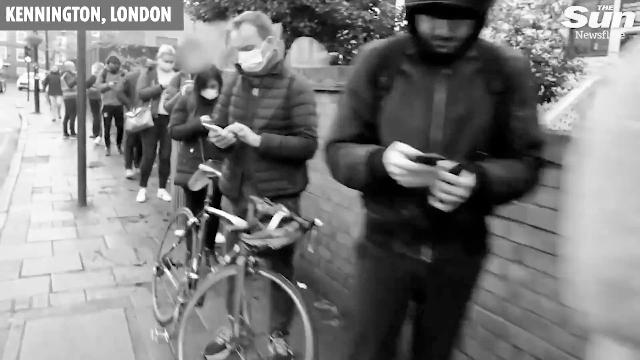berdiri: (332, 0, 548, 360), (199, 7, 315, 359), (125, 40, 178, 214)
